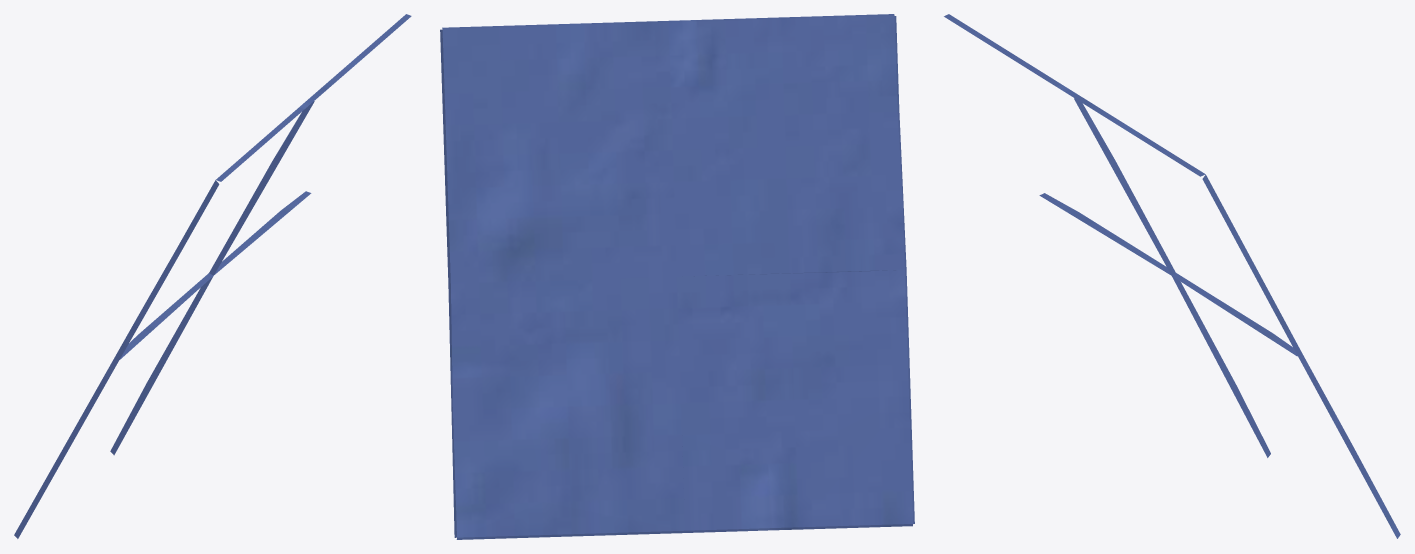
3 renders of one model, left to right at view 1: azimuth 30°, elevation 25°; view 2: azimuth 150°, elevation 25°; view 3: azimuth 270°, elevation 25°, orthographic. The views are drawn at different scales.
Bounding box in the file's own units: 78698 × 70395 × 69634.
Materials: 1 (1 with a texture image).
